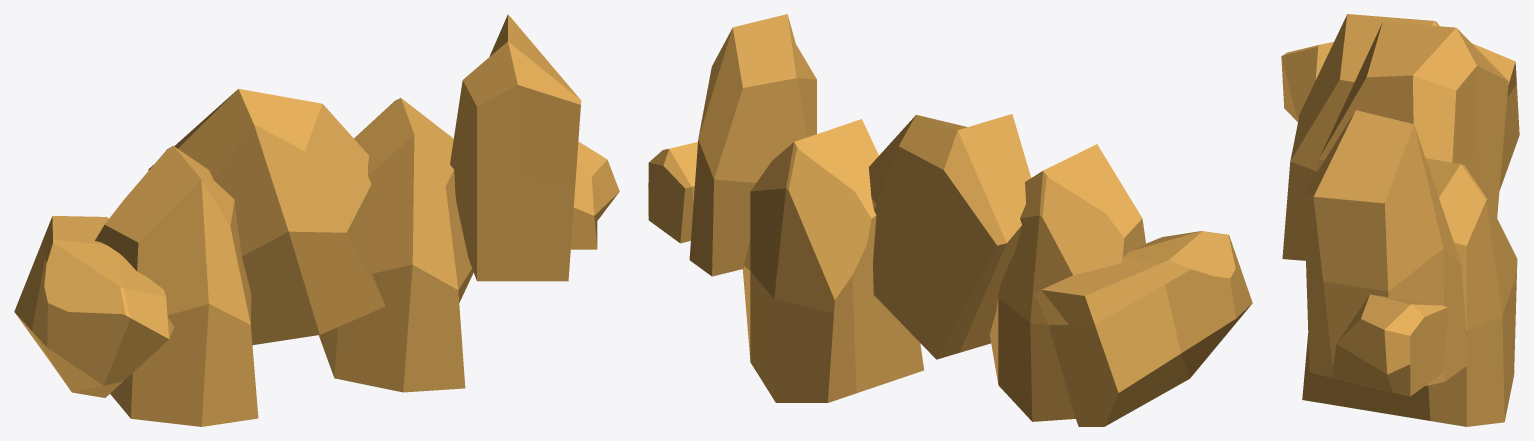
The picture shows the model from 3 angles, left to right: view 1: azimuth 30°, elevation 25°; view 2: azimuth 150°, elevation 25°; view 3: azimuth 270°, elevation 25°; orthographic projection. The views are drawn at different scales.
Parts seen in each view (by area): view 1: 立方体.043, 立方体.042, 立方体.040, 立方体.041, 立方体.044, 立方体.001; view 2: 立方体.040, 立方体.043, 立方体.044, 立方体.042, 立方体.041, 立方体.001; view 3: 立方体.041, 立方体.040, 立方体.043, 立方体.001, 立方体.042, 立方体.044.
Boxes of the visible parts, bbox=[...] form: 立方体.043: bbox=[148, 89, 385, 345]; 立方体.042: bbox=[95, 145, 258, 426]; 立方体.040: bbox=[318, 98, 473, 392]; 立方体.041: bbox=[450, 14, 581, 281]; 立方体.044: bbox=[14, 215, 173, 397]; 立方体.001: bbox=[570, 141, 619, 249]; 立方体.040: bbox=[742, 119, 923, 402]; 立方体.043: bbox=[869, 114, 1030, 359]; 立方体.044: bbox=[1034, 231, 1252, 426]; 立方体.042: bbox=[989, 144, 1146, 421]; 立方体.041: bbox=[689, 14, 816, 276]; 立方体.001: bbox=[648, 142, 697, 243]; 立方体.041: bbox=[1303, 110, 1468, 392]; 立方体.040: bbox=[1302, 158, 1517, 426]; 立方体.043: bbox=[1317, 22, 1508, 217]; 立方体.001: bbox=[1331, 294, 1447, 396]; 立方体.042: bbox=[1282, 14, 1439, 260]; 立方体.044: bbox=[1281, 42, 1519, 190].
Size of the model in its own units: 265 by 143 by 89.9.
